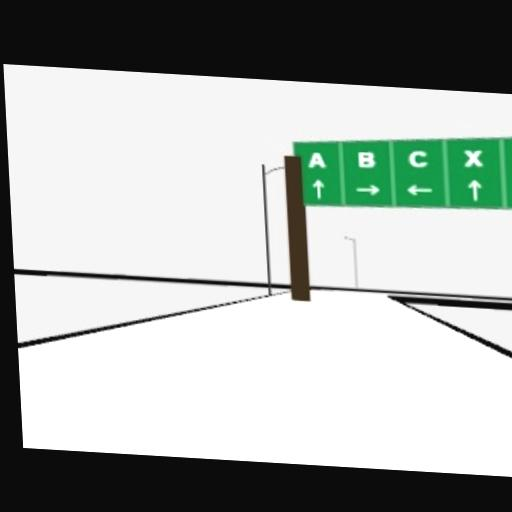A: (307, 151, 326, 168)
B: (357, 151, 376, 168)
C: (406, 149, 427, 168)
Left: (405, 183, 434, 196)
Right: (354, 183, 381, 196)
Straight: (467, 179, 481, 200), (312, 177, 324, 199)
X: (462, 148, 483, 167)
